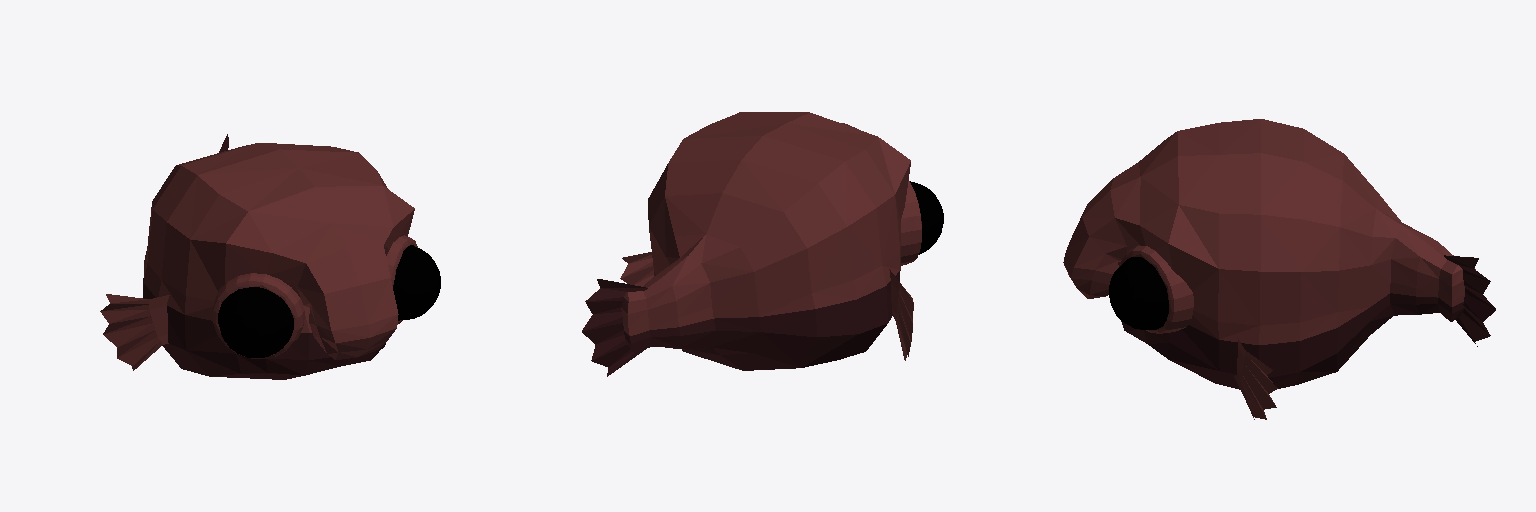
Rendered from Blobfish.obj.
3 renders of one model, left to right at view 1: azimuth 30°, elevation 25°; view 2: azimuth 150°, elevation 25°; view 3: azimuth 270°, elevation 25°, orthographic.
Visible parts, largest first — view 1: Blobfish_Cube.026; view 2: Blobfish_Cube.026; view 3: Blobfish_Cube.026.
Boxes of the visible parts, x1=… form: Blobfish_Cube.026: x1=100, y1=134, x2=440, y2=379; Blobfish_Cube.026: x1=582, y1=112, x2=943, y2=376; Blobfish_Cube.026: x1=1063, y1=119, x2=1495, y2=419.
Size of the model in its own units: 3.4 by 2.37 by 4.24.